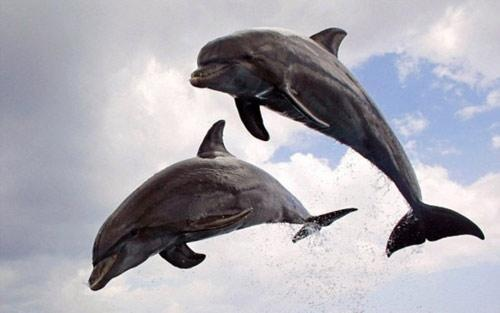fish: (188, 27, 485, 257), (85, 118, 360, 291)
